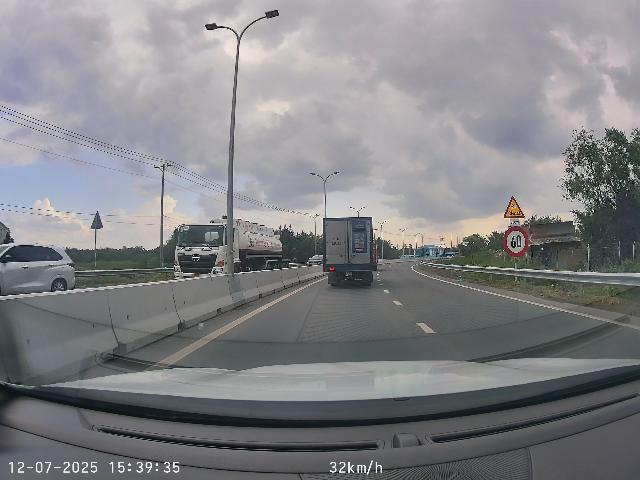127-toc-do-toi-da-60: (503, 226, 529, 257)
245-di-cham: (503, 195, 525, 219)
